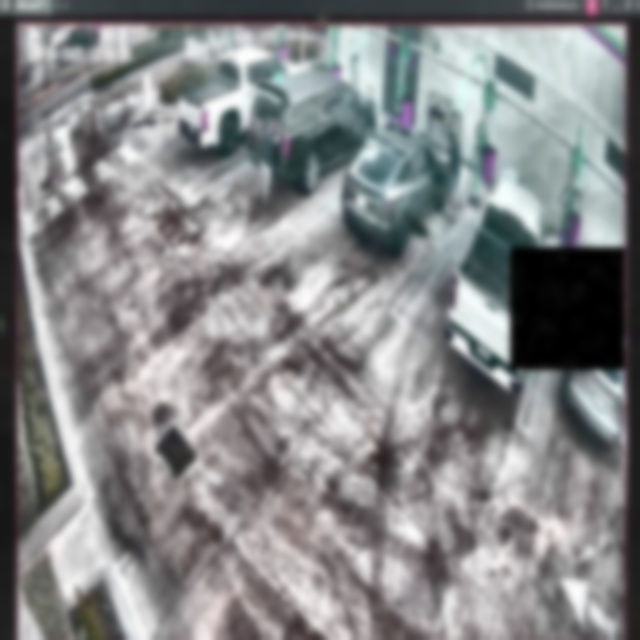Car: (444, 173, 550, 395), (247, 77, 377, 193), (341, 125, 451, 254), (178, 50, 305, 155)
